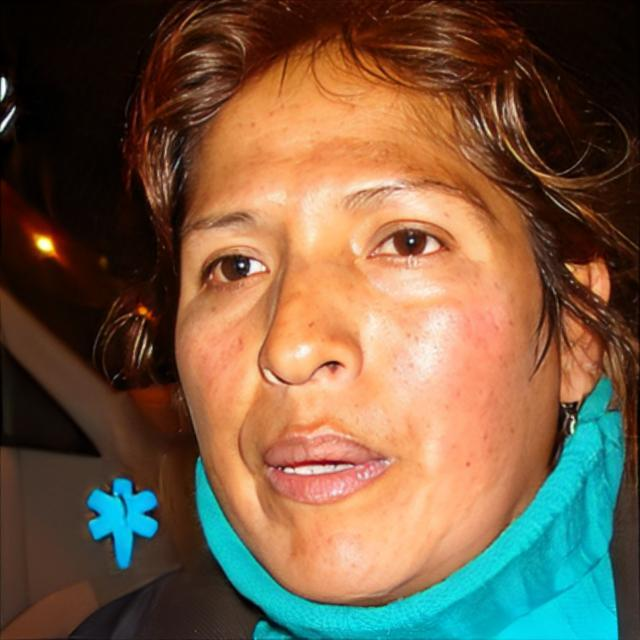surprise: (171, 36, 559, 610)
